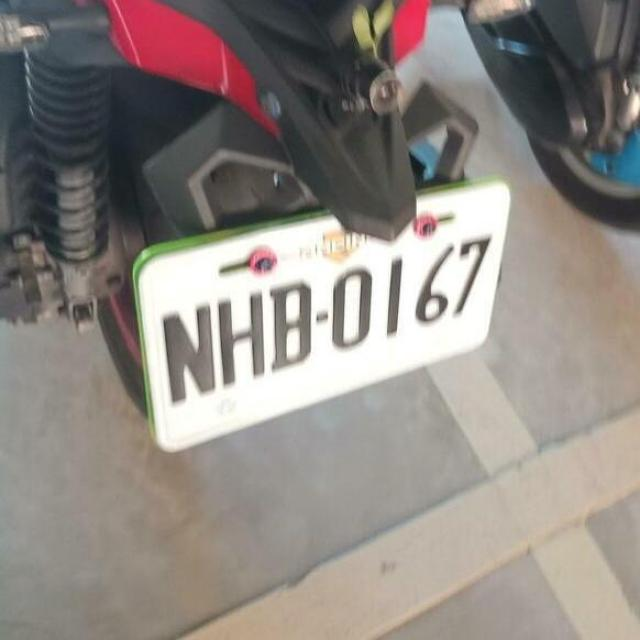W: (116, 179, 526, 453)
